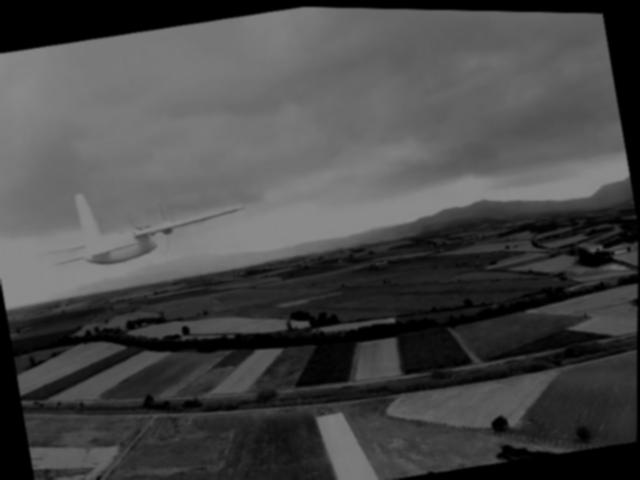hedef: (34, 161, 256, 290)
